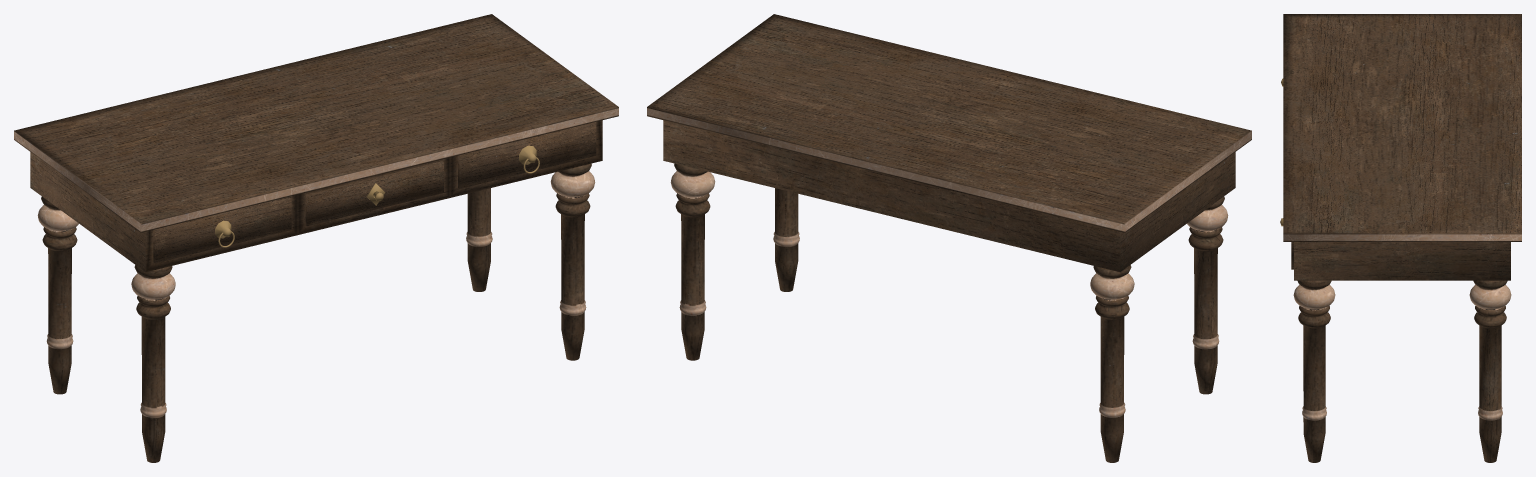
Rendered from szafka2.fbx.
3 views of the same model, side by side, from view 1: azimuth 30°, elevation 25°; view 2: azimuth 150°, elevation 25°; view 3: azimuth 270°, elevation 25° (orthographic). The views are drawn at different scales.
Parts seen in each view (by area): view 1: stół 2_Baked, szafki stołu 2_Baked; view 2: stół 2_Baked; view 3: stół 2_Baked.
Boxes of the visible parts, bbox=[...] form: stół 2_Baked: bbox=[14, 14, 618, 462]; szafki stołu 2_Baked: bbox=[153, 122, 596, 263]; stół 2_Baked: bbox=[647, 14, 1251, 462]; stół 2_Baked: bbox=[1283, 14, 1521, 462].
Bounding box in the file's own units: 338 × 173 × 158.
2 materials, 2 textured.
